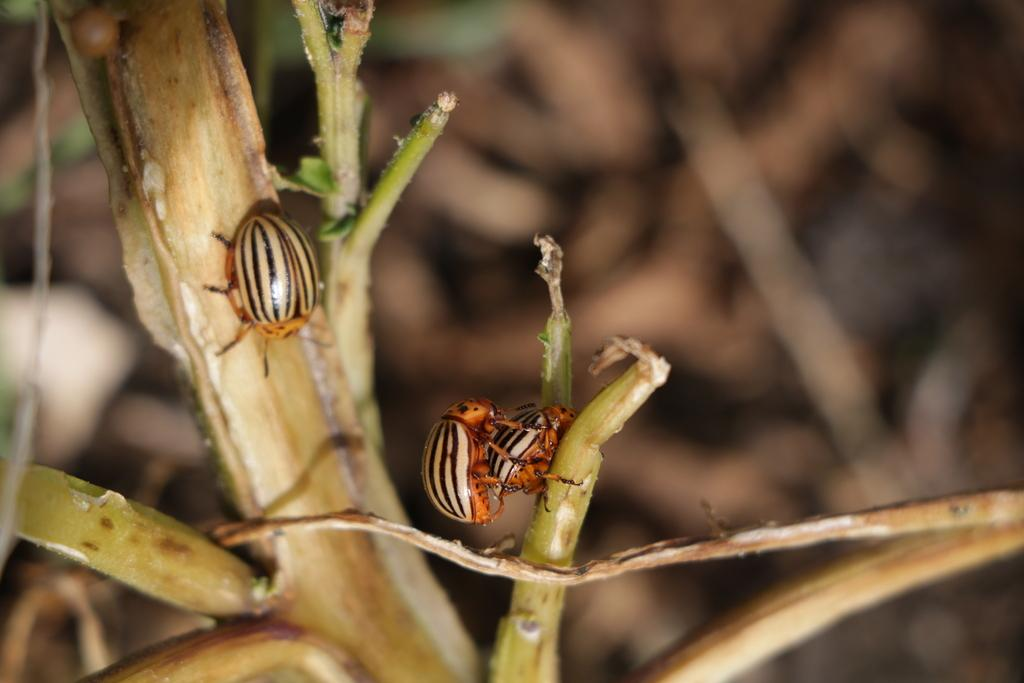potato_beetle: (191, 185, 364, 389), (480, 352, 611, 535), (401, 351, 511, 540)
